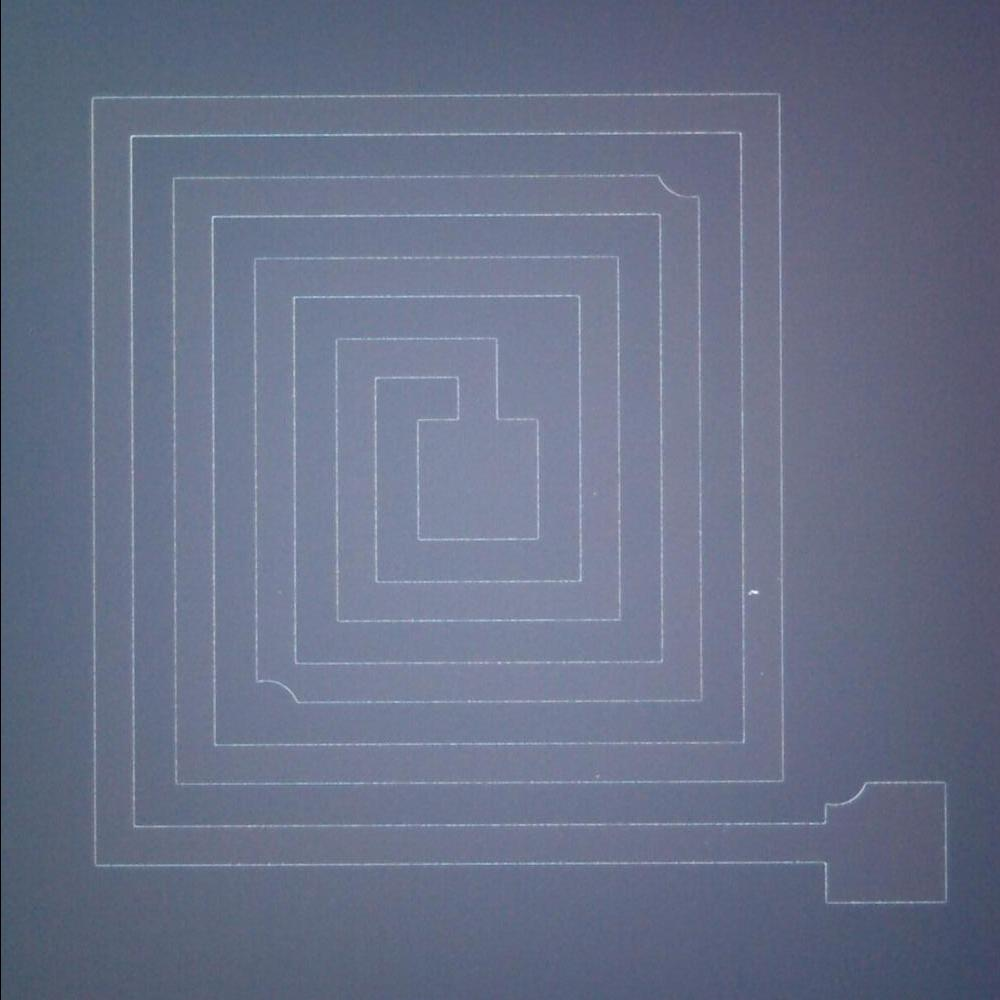curve circuit: (243, 671, 307, 718), (647, 162, 710, 206), (814, 773, 874, 814)
